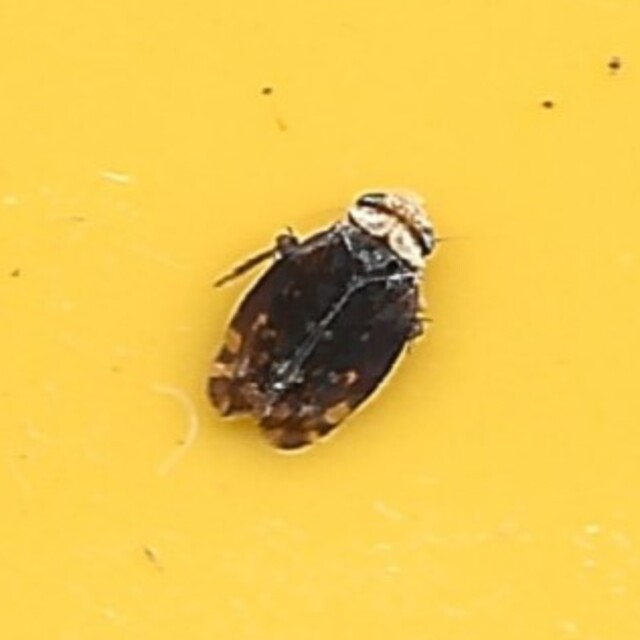Hemiptera: (203, 188, 437, 452)
